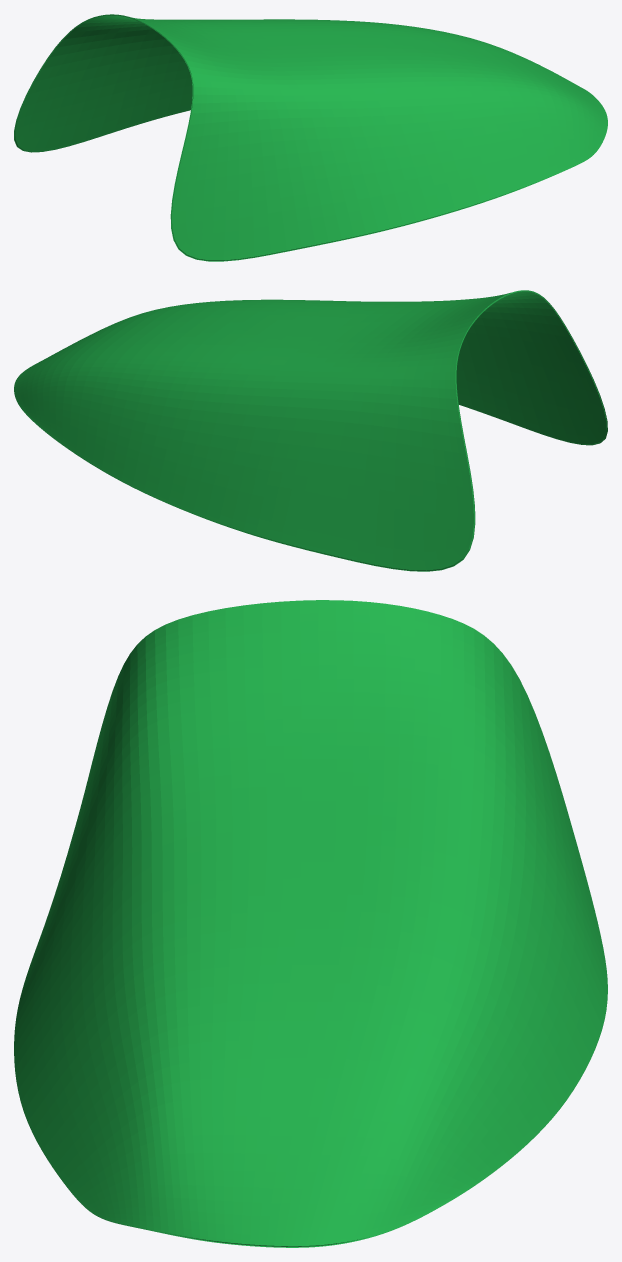
The model's file is frontLeftGREEN.obj.
3 renders of one model, top to bottom at view 1: azimuth 30°, elevation 25°; view 2: azimuth 150°, elevation 25°; view 3: azimuth 270°, elevation 25°, orthographic. The views are drawn at different scales.
Visible parts, largest first — view 1: Plane; view 2: Plane; view 3: Plane.
Boxes of the visible parts, x1=… form: Plane: x1=14, y1=14, x2=607, y2=261; Plane: x1=14, y1=290, x2=607, y2=571; Plane: x1=14, y1=600, x2=607, y2=1247.
Size of the model in its own units: 15.97 by 5.59 by 9.72.
Materials: 1 (1 with a texture image).
